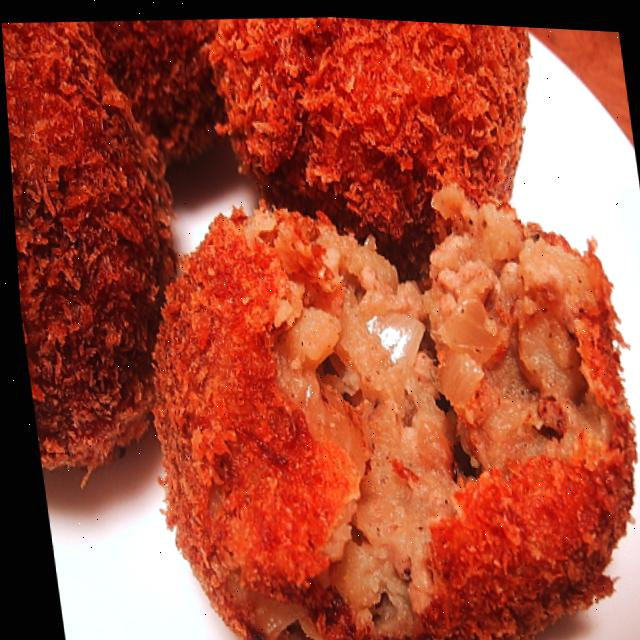炸货点心: (116, 128, 640, 640)
